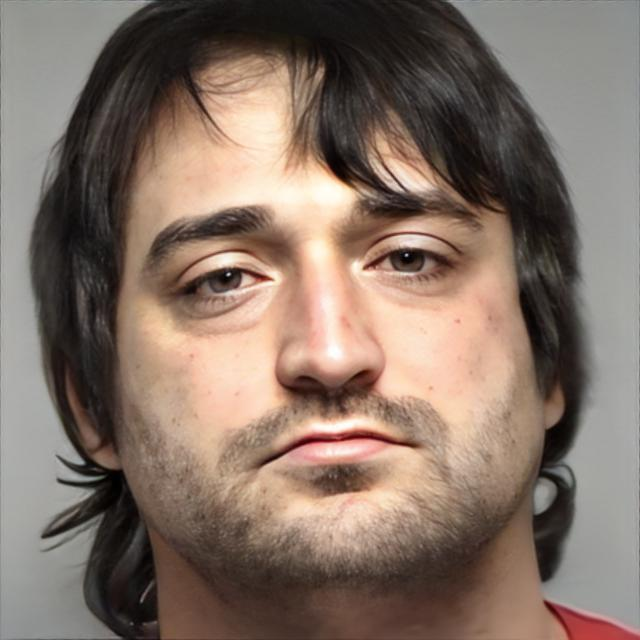sad: (117, 55, 529, 594)
